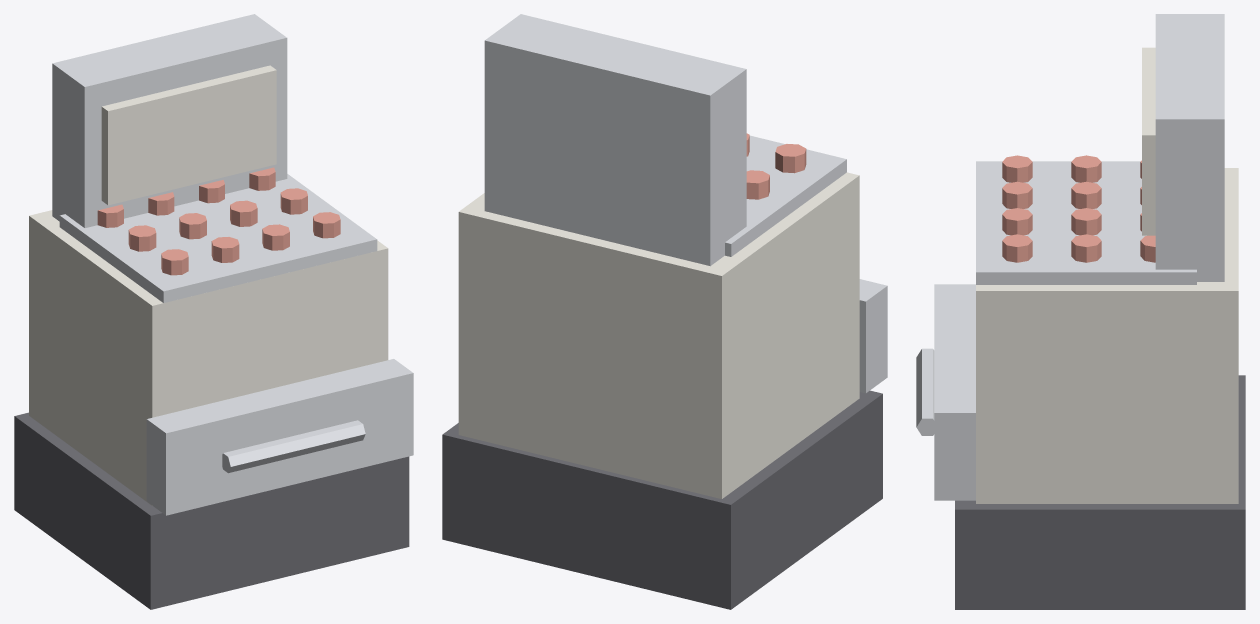
The model's file is retro-diner-and-roadside-motel-cash-till-c2887c0c__37342.glb.
3 renders of one model, left to right at view 1: azimuth 30°, elevation 25°; view 2: azimuth 150°, elevation 25°; view 3: azimuth 270°, elevation 25°, orthographic. The views are drawn at different scales.
Parts seen in each view (by area): view 1: cash-till-cream, cash-till-asphalt, cash-till-chrome, drawer, cash-till-coral; view 2: cash-till-cream, cash-till-chrome, cash-till-asphalt, drawer, cash-till-coral; view 3: cash-till-cream, cash-till-chrome, cash-till-asphalt, drawer, cash-till-coral.
Part boxes in pixels (x1,y1,x2,y2): cash-till-cream: (29, 65, 388, 505); cash-till-asphalt: (14, 412, 409, 609); cash-till-chrome: (52, 14, 377, 302); drawer: (146, 359, 413, 515); cash-till-coral: (97, 167, 340, 275); cash-till-cream: (458, 172, 859, 498); cash-till-chrome: (484, 14, 846, 266); cash-till-asphalt: (442, 390, 882, 609); drawer: (859, 279, 887, 393); cash-till-coral: (746, 133, 806, 199); cash-till-cream: (976, 47, 1238, 503); cash-till-chrome: (976, 14, 1224, 284); cash-till-asphalt: (955, 375, 1245, 609); drawer: (916, 284, 975, 500); cash-till-coral: (1002, 155, 1155, 262).
Size of the model in its own units: 0.46 by 0.76 by 0.476.
